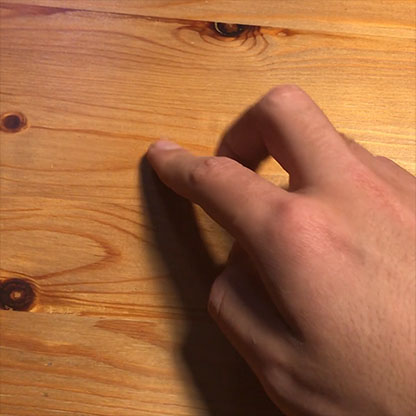fingertip: (137, 132, 193, 168)
